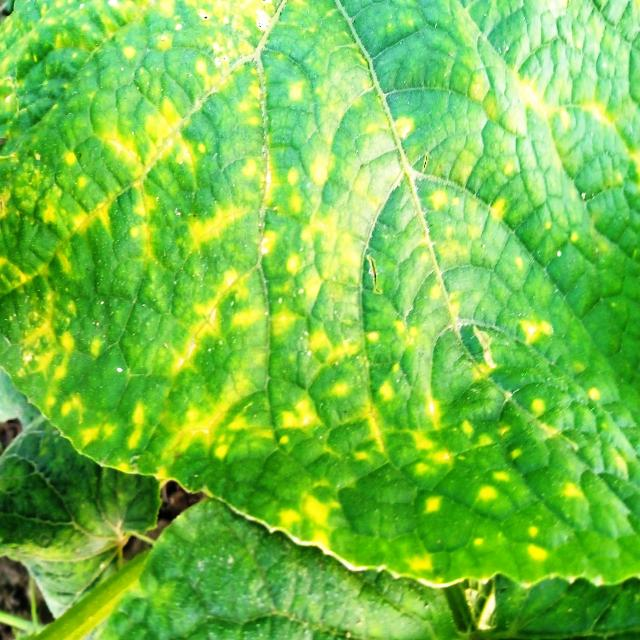Downy-Mildew: (0, 0, 639, 587)
